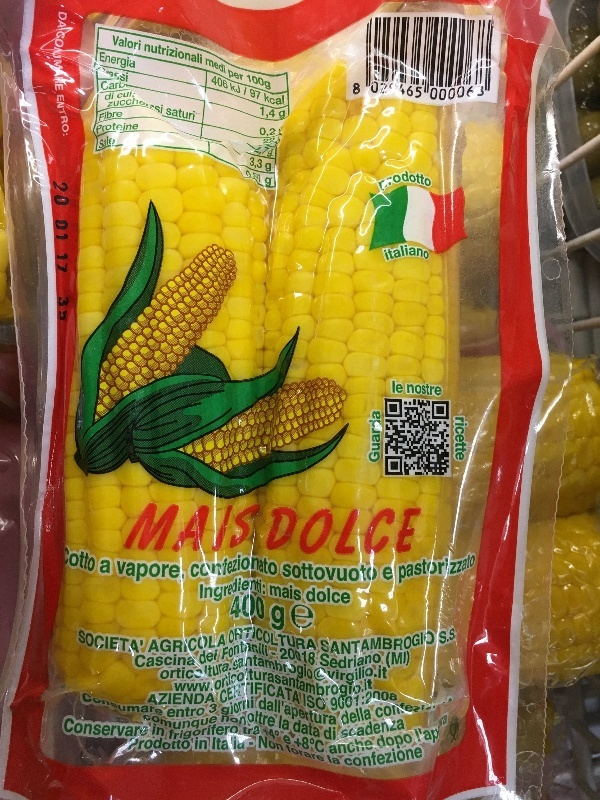text: (161, 500, 176, 558), (177, 500, 192, 558), (193, 500, 208, 558), (209, 500, 224, 558), (225, 500, 240, 558), (241, 500, 256, 558), (257, 500, 272, 558), (273, 500, 288, 558), (289, 500, 304, 558), (305, 500, 320, 558), (321, 500, 336, 558), (337, 500, 352, 558), (353, 500, 368, 558), (369, 500, 384, 558), (385, 500, 400, 558), (401, 500, 416, 558), (369, 411, 384, 464), (148, 500, 160, 558), (177, 662, 192, 702), (193, 662, 208, 702), (209, 662, 224, 702), (225, 662, 240, 702), (241, 662, 256, 702), (257, 662, 272, 702), (273, 662, 288, 702), (289, 662, 304, 702), (305, 662, 320, 702), (321, 662, 336, 702), (337, 662, 352, 702), (353, 662, 368, 702), (401, 549, 416, 586), (417, 549, 432, 586), (433, 549, 448, 586), (449, 549, 464, 586), (273, 696, 288, 729), (289, 696, 304, 729), (305, 696, 320, 729), (321, 696, 336, 729), (193, 547, 208, 579), (209, 547, 224, 579), (225, 547, 240, 579), (241, 547, 256, 579), (257, 547, 272, 579), (209, 573, 224, 604), (225, 573, 240, 604), (241, 573, 256, 604), (241, 651, 256, 682), (257, 651, 272, 682), (273, 651, 288, 682), (289, 651, 304, 682), (353, 741, 368, 772), (369, 741, 384, 772), (385, 741, 400, 772), (401, 741, 416, 772), (259, 696, 272, 729), (66, 545, 80, 575), (81, 545, 95, 575), (241, 593, 256, 621), (81, 629, 96, 657), (97, 629, 112, 657), (113, 629, 128, 657), (129, 629, 144, 657), (225, 639, 240, 667), (241, 639, 256, 667), (257, 639, 272, 667), (273, 639, 288, 667), (289, 639, 304, 667), (465, 549, 476, 586), (97, 692, 112, 719), (113, 692, 128, 719), (129, 692, 144, 719), (145, 692, 160, 719), (225, 680, 240, 707), (241, 680, 256, 707), (257, 680, 272, 707), (273, 680, 288, 707), (455, 416, 464, 461), (129, 560, 144, 585), (145, 560, 160, 585), (161, 560, 176, 585), (321, 630, 336, 655), (337, 630, 352, 655), (353, 630, 368, 655), (369, 630, 384, 655), (385, 630, 400, 655), (401, 630, 416, 655), (417, 630, 432, 655), (145, 41, 160, 65), (161, 41, 176, 65), (177, 41, 192, 65), (56, 94, 64, 139), (225, 695, 240, 719), (337, 688, 352, 712), (353, 688, 368, 712), (369, 688, 384, 712), (353, 716, 368, 740), (369, 716, 384, 740), (385, 716, 400, 740), (337, 734, 352, 758), (353, 734, 368, 758), (291, 604, 304, 631), (83, 692, 96, 719), (417, 500, 423, 558), (113, 93, 128, 116), (129, 93, 144, 116), (145, 93, 160, 116), (225, 707, 240, 730), (241, 707, 256, 730), (257, 707, 272, 730), (65, 717, 80, 739), (81, 717, 96, 739), (97, 717, 112, 739), (113, 717, 128, 739), (129, 717, 144, 739), (177, 721, 192, 743), (193, 721, 208, 743), (209, 721, 224, 743), (273, 605, 285, 632), (289, 680, 301, 707), (305, 719, 321, 739), (53, 180, 64, 209), (161, 633, 176, 654), (177, 633, 192, 654), (193, 633, 208, 654), (209, 633, 224, 654), (241, 626, 256, 647), (257, 626, 272, 647), (177, 662, 192, 683), (193, 662, 208, 683), (209, 662, 224, 683), (321, 665, 336, 686), (337, 665, 352, 686), (353, 665, 368, 686), (353, 706, 368, 727), (241, 695, 254, 719), (385, 688, 398, 712), (305, 639, 316, 667), (225, 721, 239, 743), (113, 52, 128, 72), (289, 562, 304, 582), (305, 562, 320, 582), (321, 562, 336, 582), (337, 562, 352, 582), (353, 562, 368, 582), (289, 743, 304, 763), (305, 743, 320, 763), (305, 735, 320, 755), (385, 732, 400, 752), (433, 695, 448, 715), (162, 662, 176, 683), (273, 583, 288, 602), (321, 587, 336, 606), (289, 633, 304, 652), (225, 734, 240, 753), (241, 734, 256, 753), (257, 734, 272, 753), (385, 700, 400, 719), (401, 700, 416, 719), (401, 170, 416, 189), (257, 170, 272, 189), (257, 573, 266, 604), (117, 560, 128, 585), (65, 94, 71, 139), (337, 652, 352, 670), (353, 652, 368, 670), (145, 734, 160, 752), (161, 734, 176, 752), (305, 693, 320, 711), (417, 728, 432, 746), (337, 587, 351, 606), (417, 170, 431, 189), (341, 716, 352, 740), (401, 732, 414, 752), (113, 67, 129, 83), (209, 58, 224, 75), (145, 714, 160, 731), (161, 714, 176, 731), (177, 714, 192, 731), (193, 714, 208, 731), (401, 84, 416, 101), (433, 85, 448, 102), (449, 85, 464, 102), (465, 85, 480, 102), (257, 593, 266, 621), (322, 652, 336, 670), (130, 734, 144, 752), (340, 706, 352, 727), (200, 573, 208, 604), (305, 651, 313, 682), (344, 741, 352, 772), (289, 583, 302, 602), (305, 633, 318, 652), (305, 604, 314, 631), (113, 35, 128, 51), (100, 52, 112, 72), (97, 120, 112, 136), (113, 120, 128, 136), (145, 653, 160, 669), (161, 653, 176, 669), (177, 653, 192, 669), (385, 245, 400, 261), (401, 245, 416, 261), (417, 382, 432, 398), (257, 74, 271, 91), (369, 652, 382, 670), (177, 734, 190, 752), (308, 587, 320, 606), (388, 650, 400, 669), (273, 734, 285, 753), (177, 560, 186, 585), (257, 157, 271, 173), (417, 741, 424, 772), (193, 41, 202, 65), (230, 626, 240, 647), (177, 705, 192, 719), (277, 633, 288, 652), (213, 734, 224, 753), (129, 35, 142, 51), (99, 67, 112, 83), (417, 245, 430, 261), (100, 133, 112, 150), (324, 726, 336, 743), (294, 719, 304, 739), (294, 735, 304, 755), (422, 695, 432, 715), (369, 662, 374, 702), (354, 82, 368, 96), (161, 693, 176, 706), (177, 693, 192, 706), (193, 693, 208, 706), (177, 108, 192, 121), (372, 80, 384, 96), (59, 10, 64, 48), (209, 647, 219, 666), (369, 665, 378, 686), (101, 558, 112, 575), (234, 651, 240, 682), (273, 93, 285, 108), (401, 650, 410, 669), (439, 627, 448, 646), (247, 170, 256, 189), (243, 725, 256, 738), (100, 109, 112, 123), (56, 220, 64, 241), (152, 633, 160, 654), (193, 705, 205, 719), (196, 736, 208, 750), (329, 734, 336, 758), (273, 106, 285, 120), (57, 252, 64, 275), (129, 120, 139, 136), (273, 547, 278, 579), (369, 562, 377, 582), (376, 732, 384, 752), (261, 106, 272, 120), (247, 74, 256, 91), (209, 714, 218, 731), (200, 647, 208, 666), (376, 700, 384, 719), (225, 662, 232, 683), (65, 180, 70, 209), (228, 69, 240, 81), (55, 76, 64, 92), (263, 727, 272, 743), (330, 688, 336, 712), (407, 382, 416, 398), (433, 382, 442, 398), (129, 52, 136, 72), (113, 109, 123, 123), (235, 593, 240, 621), (385, 566, 394, 581), (465, 416, 468, 461), (449, 627, 456, 646), (393, 170, 400, 189), (170, 721, 176, 743), (260, 127, 272, 138), (59, 296, 64, 322), (136, 653, 144, 669), (280, 715, 288, 731), (273, 727, 281, 743), (392, 379, 400, 395), (273, 626, 279, 647), (433, 728, 440, 746), (215, 76, 224, 90), (113, 81, 125, 91), (321, 743, 327, 763), (401, 716, 406, 740), (369, 734, 374, 758), (264, 93, 272, 108), (167, 108, 176, 121), (417, 700, 423, 719), (168, 705, 176, 719), (230, 83, 240, 94), (220, 680, 224, 707), (315, 665, 320, 686), (65, 296, 69, 322), (152, 693, 160, 706), (417, 84, 423, 101), (102, 81, 112, 91), (327, 754, 336, 765), (245, 87, 256, 96), (442, 713, 448, 729), (250, 157, 256, 173), (65, 252, 69, 275), (273, 707, 277, 730), (209, 693, 216, 706), (118, 90, 128, 99), (154, 723, 160, 738), (321, 693, 326, 711), (145, 717, 149, 739), (284, 562, 288, 582), (284, 743, 288, 763), (321, 735, 325, 755), (379, 665, 384, 681), (449, 695, 453, 715), (174, 662, 176, 702), (249, 89, 256, 100), (265, 146, 272, 157), (65, 10, 67, 48), (161, 723, 166, 738), (398, 549, 400, 586), (221, 695, 224, 719), (263, 137, 272, 145), (109, 93, 112, 116), (161, 93, 164, 116), (481, 85, 485, 102), (65, 220, 68, 241), (369, 706, 372, 727), (225, 76, 229, 90), (161, 692, 163, 719), (113, 133, 116, 150), (433, 630, 435, 655), (193, 653, 196, 669), (284, 735, 288, 747), (385, 665, 388, 681), (401, 379, 404, 395), (222, 707, 224, 730), (107, 92, 112, 101), (337, 754, 341, 765), (257, 89, 261, 100), (257, 725, 260, 738), (270, 583, 272, 602), (241, 69, 244, 81), (129, 90, 133, 99), (289, 735, 292, 747), (414, 728, 416, 746), (206, 58, 208, 75), (225, 58, 227, 75), (337, 696, 338, 729), (273, 127, 276, 138), (191, 547, 192, 579), (382, 245, 384, 261), (79, 629, 80, 657), (193, 108, 195, 121), (225, 633, 226, 654), (113, 92, 115, 101), (303, 693, 304, 711), (431, 85, 432, 102), (289, 715, 290, 731), (273, 137, 275, 145), (273, 146, 274, 157)
